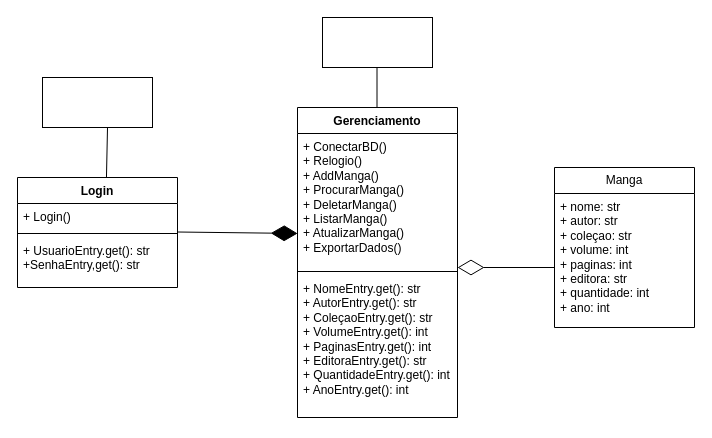
The diagram is 712 pixels wide and 438 high, and some of its shapes have lost their labels. The shapes that lost their labels are listed below. From the top down, each one's centre as x and y in pixels, then its label:
At pixel 377 42: "«interface» CRUD".
At pixel 97 102: "«interface» Login".
